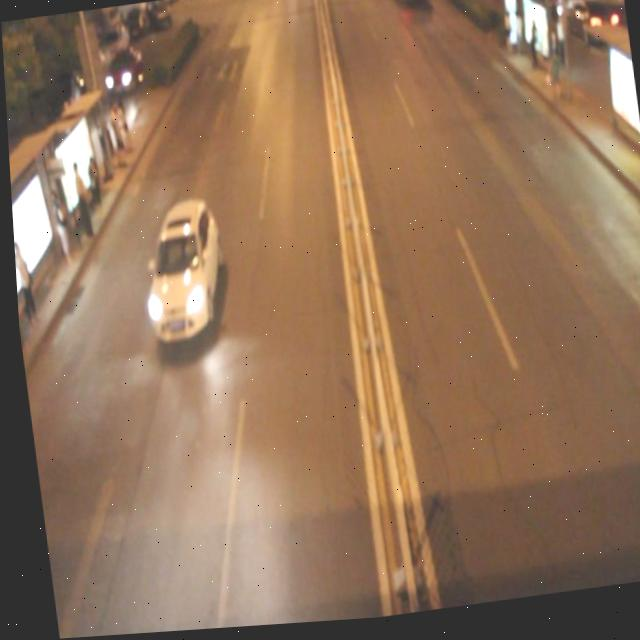car: (127, 192, 229, 348)
